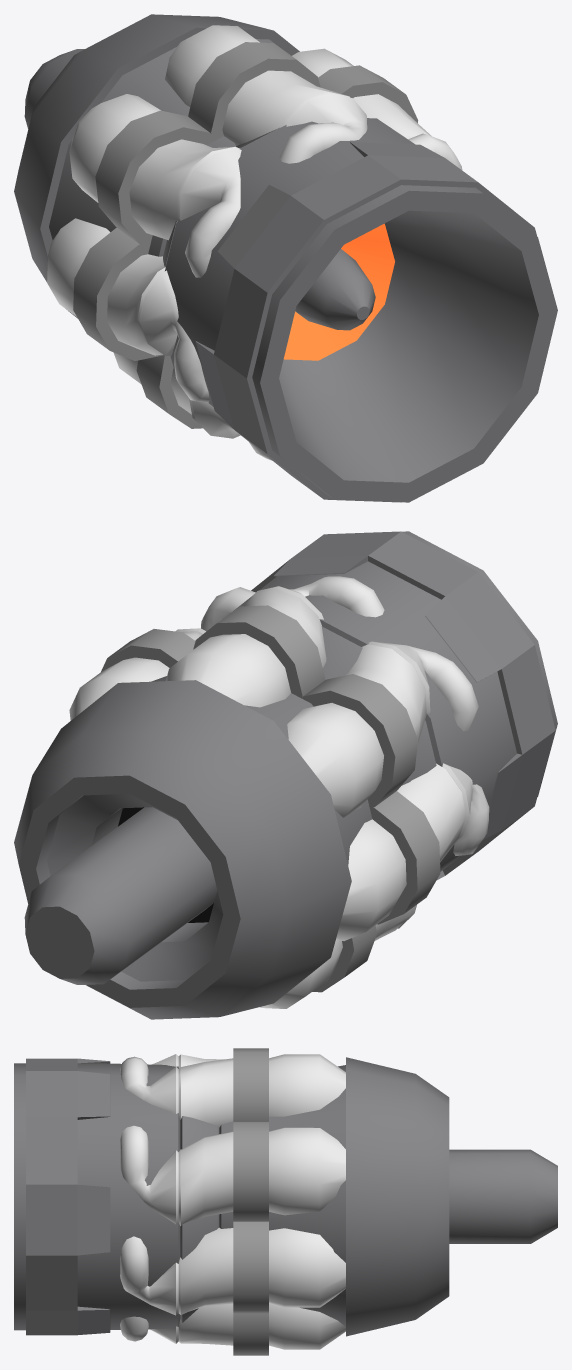
The model's file is Thruster.glb.
The picture shows the model from 3 angles, top to bottom: view 1: azimuth 30°, elevation 25°; view 2: azimuth 150°, elevation 25°; view 3: azimuth 270°, elevation 25°; orthographic projection. The views are drawn at different scales.
Visible parts, largest first — view 1: eng_onion_101; view 2: eng_onion_101; view 3: eng_onion_101.
Part boxes in pixels (box(x1,y1,x2,y2)): eng_onion_101: box(14, 14, 557, 502); eng_onion_101: box(14, 531, 557, 1019); eng_onion_101: box(14, 1048, 557, 1355).
Size of the model in its own units: 1.81 by 1.8 by 3.19.
